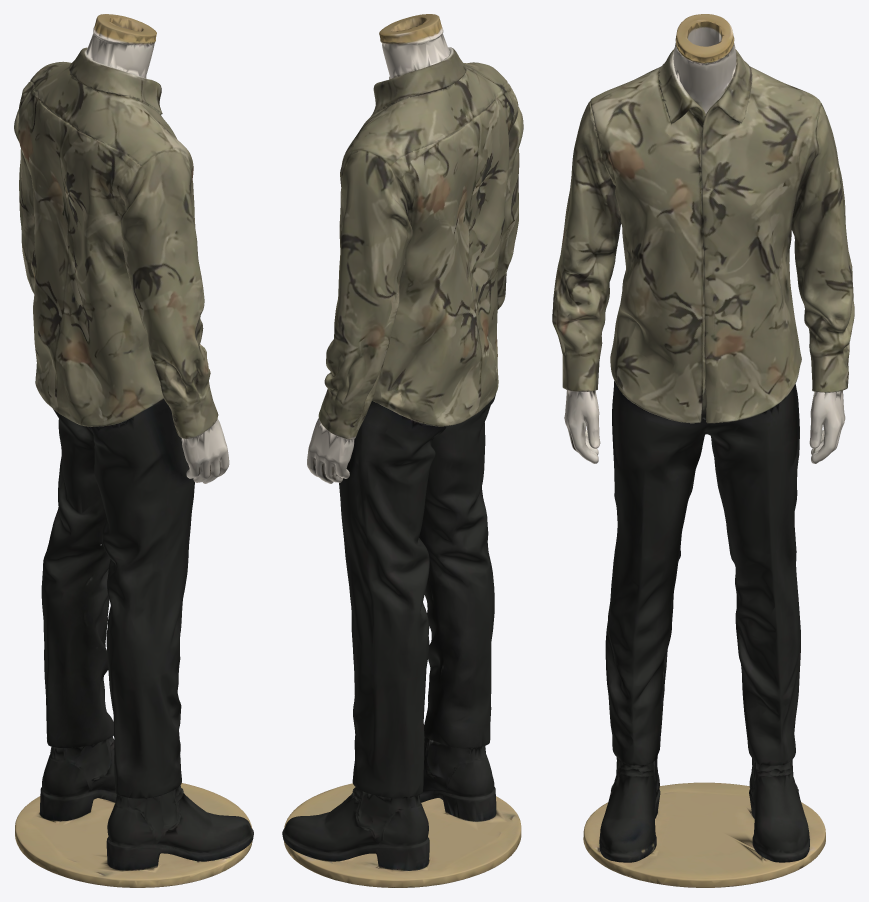
File: pr_sage.glb
3 views of the same model, side by side, from view 1: azimuth 30°, elevation 25°; view 2: azimuth 150°, elevation 25°; view 3: azimuth 270°, elevation 25° (orthographic).
Parts seen in each view (by area): view 1: tripo_node_fa6adabc-db4b-48ee-b235-411830769f2e; view 2: tripo_node_fa6adabc-db4b-48ee-b235-411830769f2e; view 3: tripo_node_fa6adabc-db4b-48ee-b235-411830769f2e.
Boxes of the visible parts, bbox=[...] form: tripo_node_fa6adabc-db4b-48ee-b235-411830769f2e: bbox=[14, 14, 253, 887]; tripo_node_fa6adabc-db4b-48ee-b235-411830769f2e: bbox=[282, 14, 523, 887]; tripo_node_fa6adabc-db4b-48ee-b235-411830769f2e: bbox=[552, 14, 854, 887].
Bounding box in the file's own units: 0.2546 × 0.9794 × 0.3316.
Materials: 1 (1 with a texture image).
